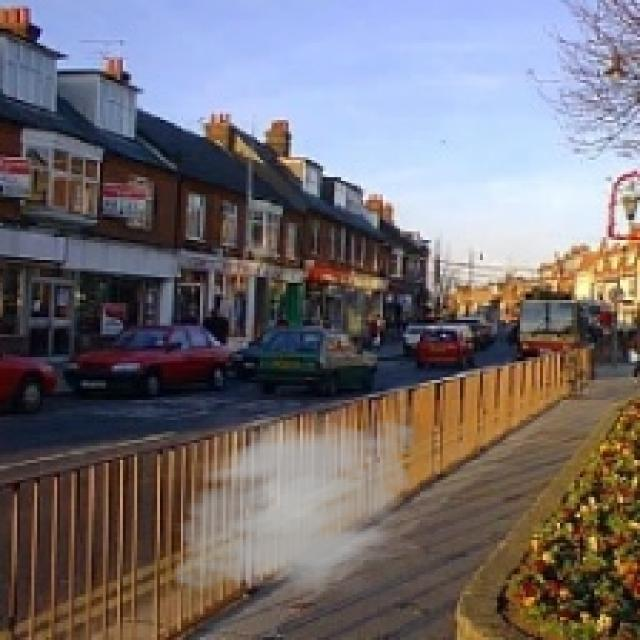Smoke: (163, 406, 426, 608)
